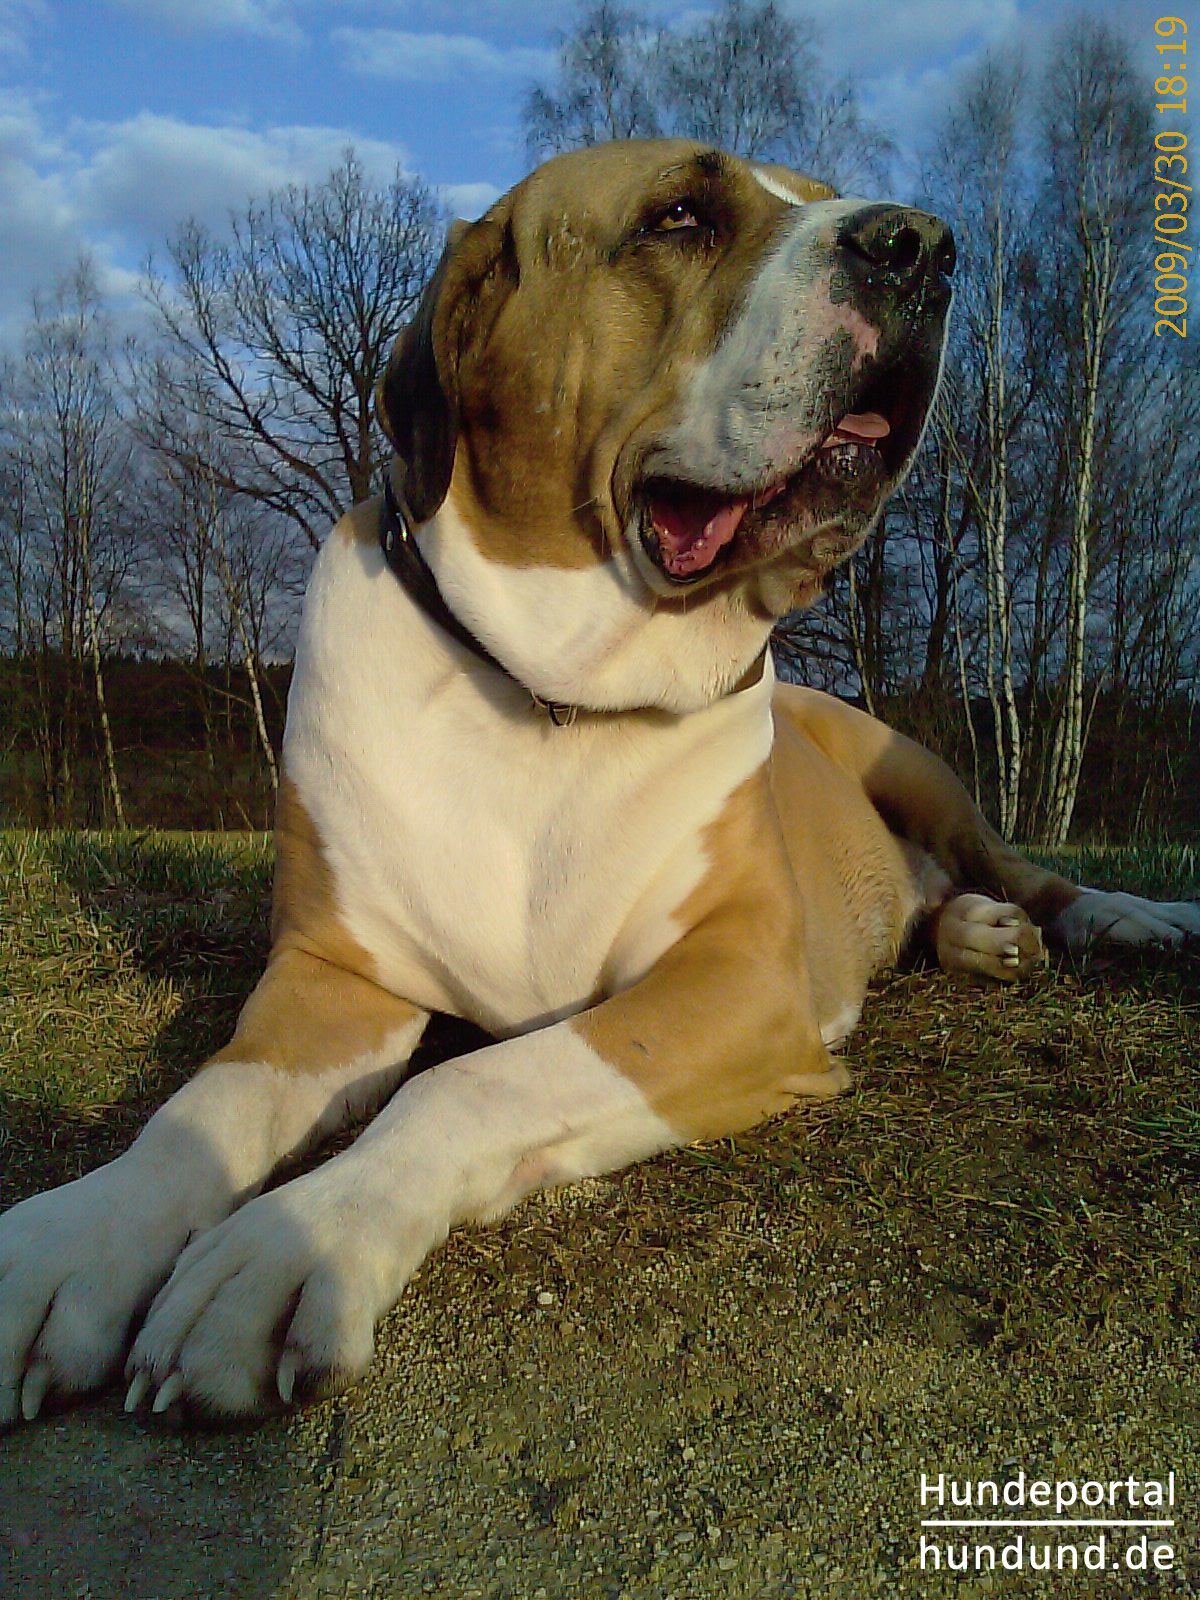fila_brasileiro: (1, 134, 1199, 1437)
